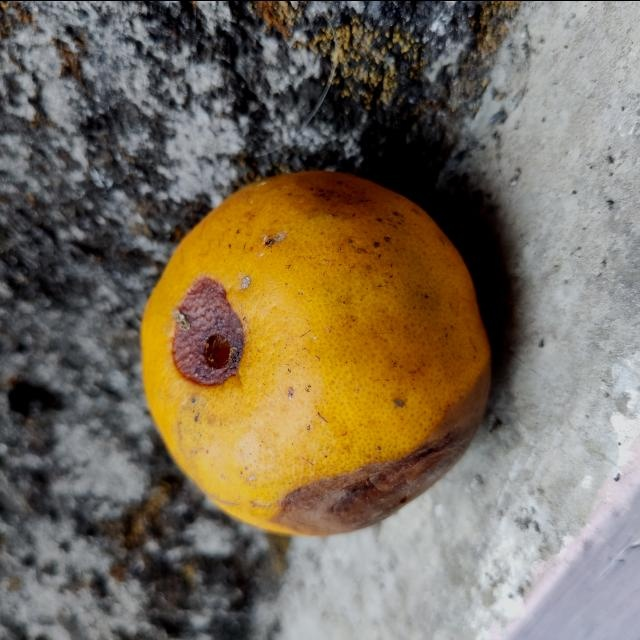agrume: (138, 169, 497, 536)
